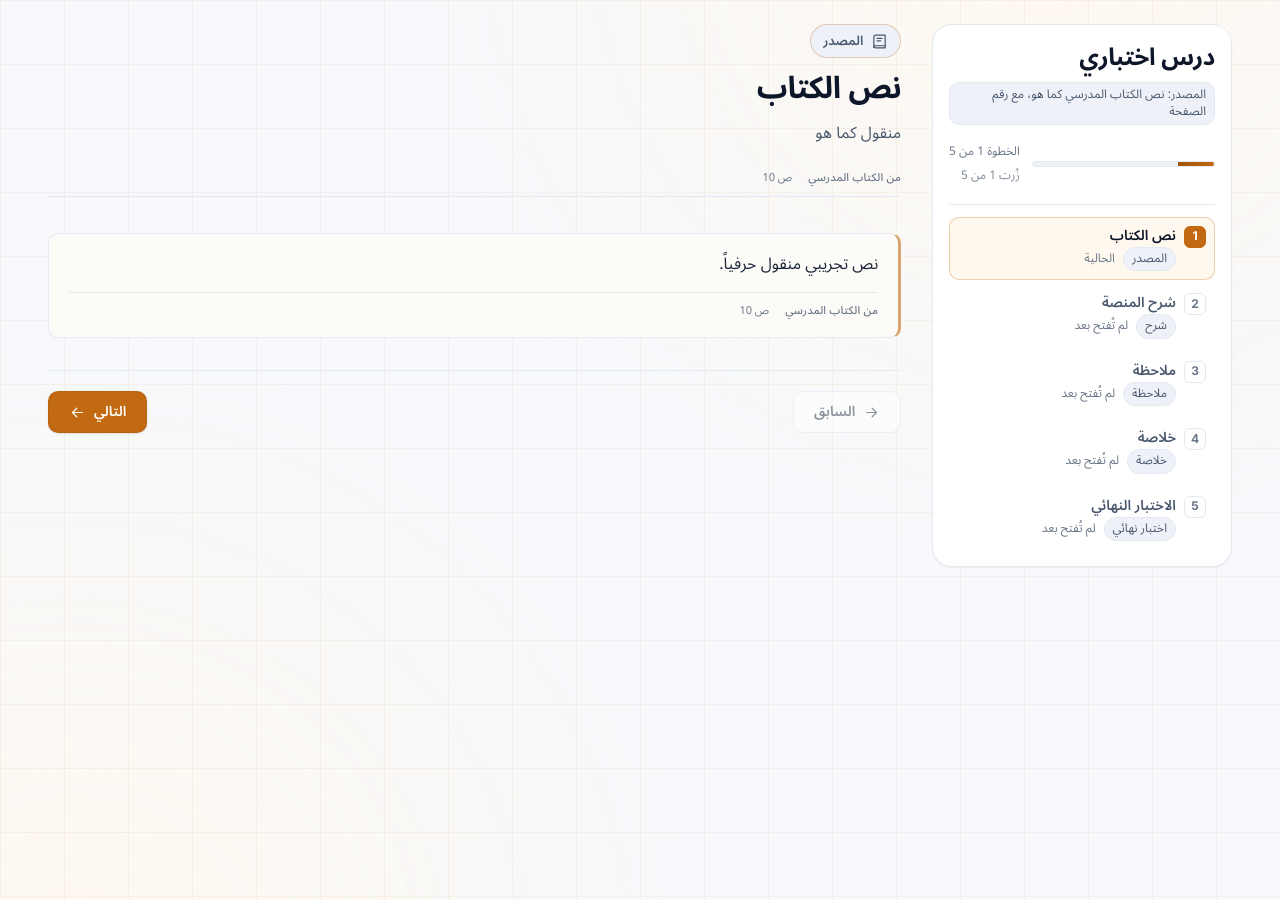
LessonFlow — one meaningful step at a time › moves forward and backward through steps with real buttons
expect the button "السابق" is disabled: met, box [793,391,901,433]
Click the button "التالي" at [98, 412], box [48,391,147,433]
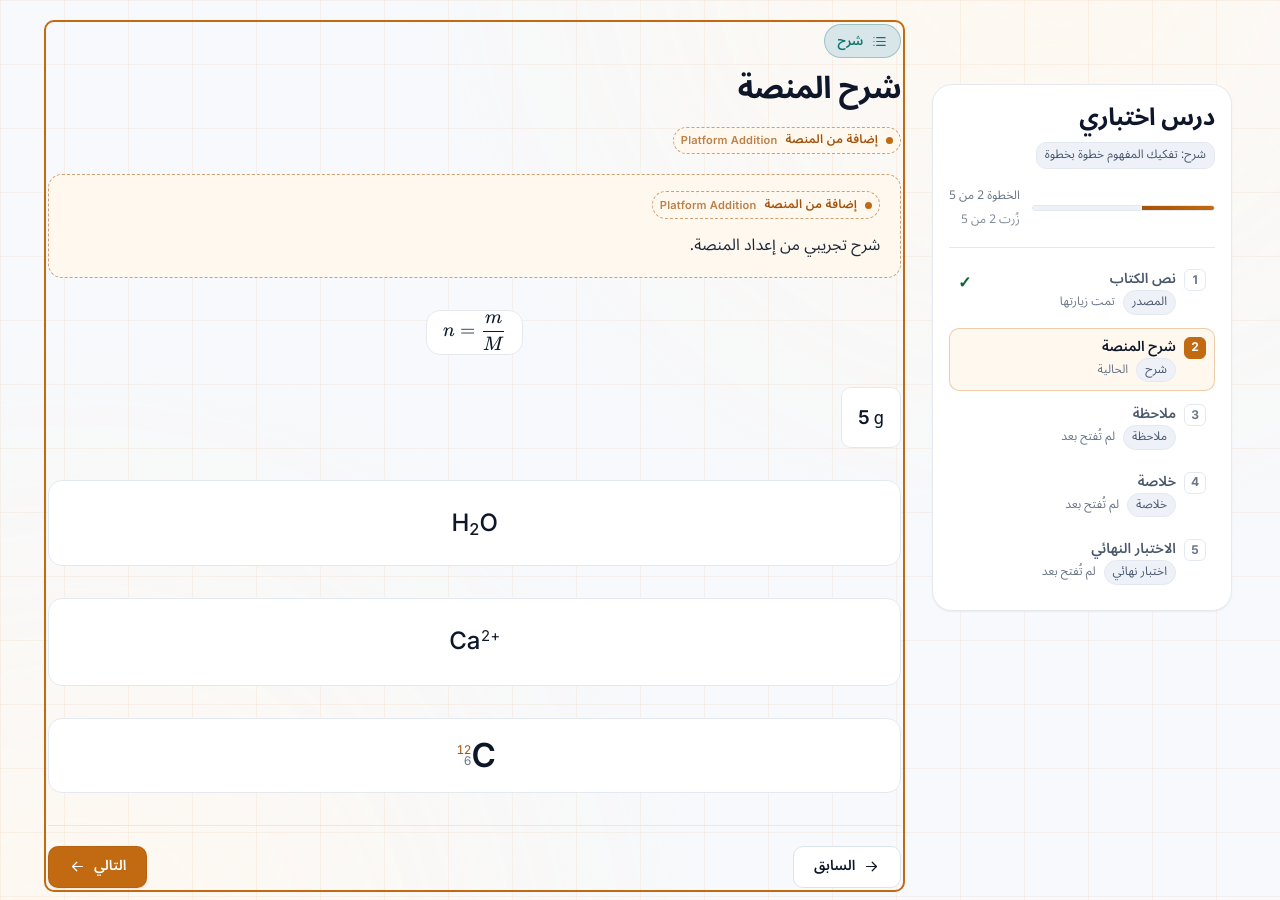
expect the text "شرح تجريبي من إعداد المنصة." is shown: met, box [690,228,880,262]
Click the button "السابق" at [847, 867], box [793,846,901,888]
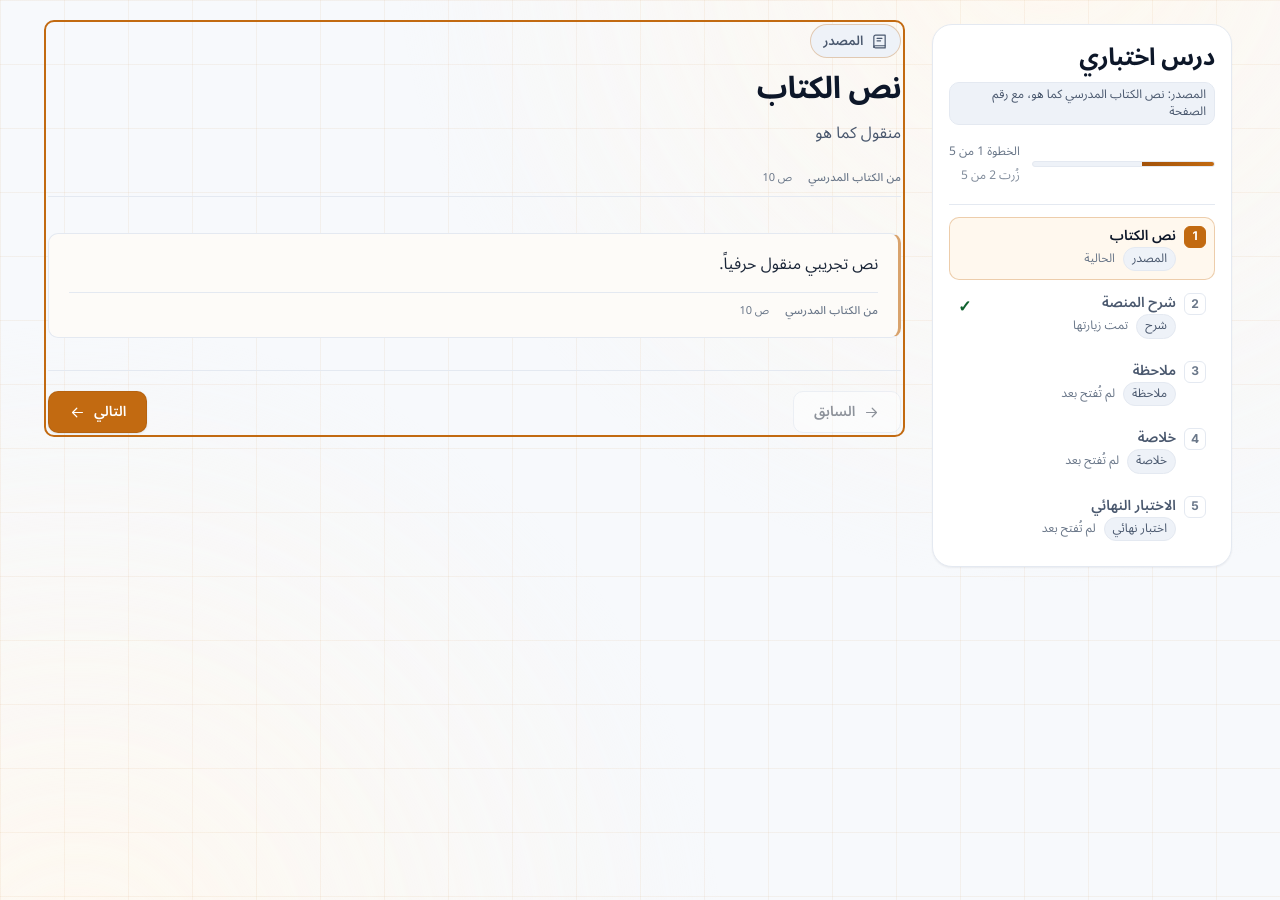
expect the text "نص تجريبي منقول حرفياً." is shown: met, box [719,248,878,282]
